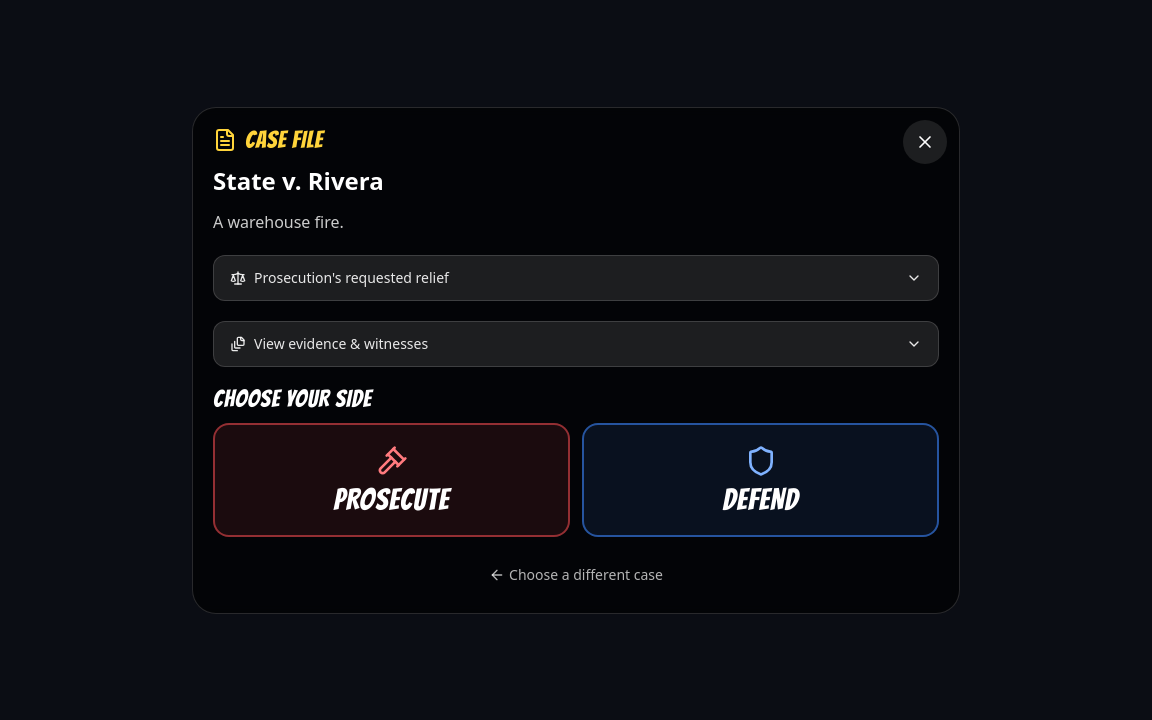
Test: CasePreview (accept the case) › keeps the requested relief closed until opened, then lists the demands and what they mean for the defence
Expected: the text "$300 plus $200 in legal costs" is not shown
Click the button "Prosecution's requested relief" at [351, 277], box [213,254,939,300]
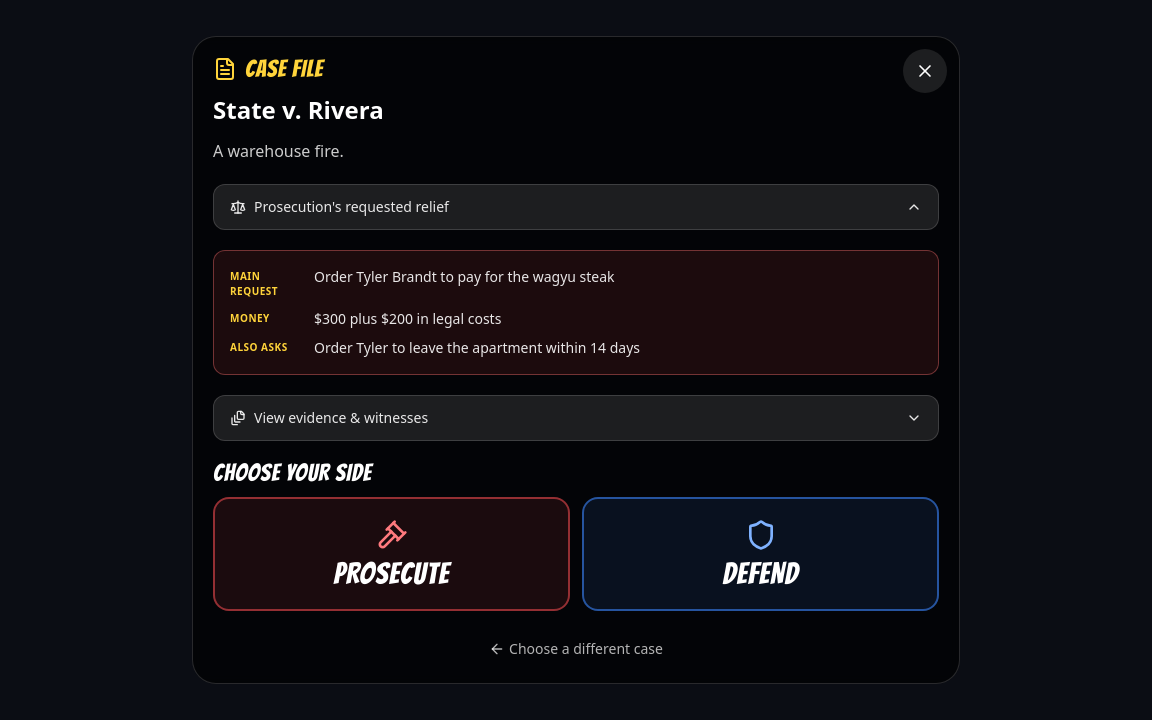
Expected: the button "Prosecution's requested relief" is expanded
Expected: the text "$300 plus $200 in legal costs" is shown, [314,309,501,328]
Expected: the text "Order Tyler to leave the apartment within 14 days" is shown, [314,338,640,358]
Click the button "Prosecution's requested relief" at [351, 206], box [213,184,939,230]
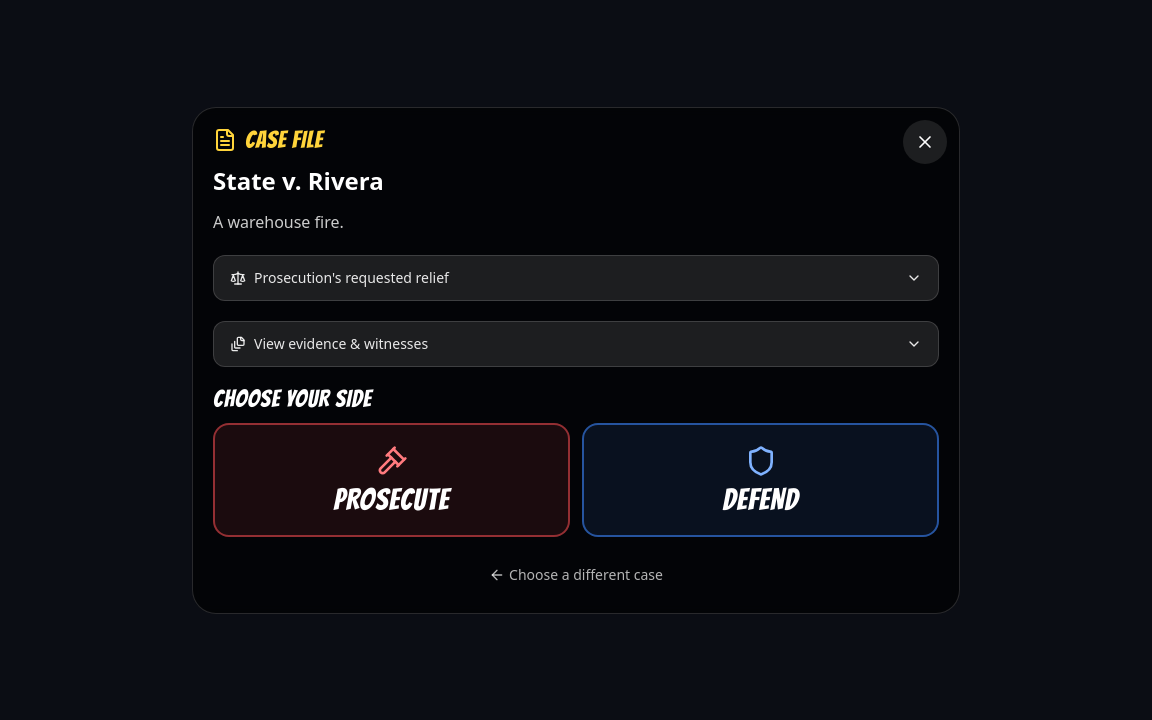
Expected: the text "$300 plus $200 in legal costs" is gone
